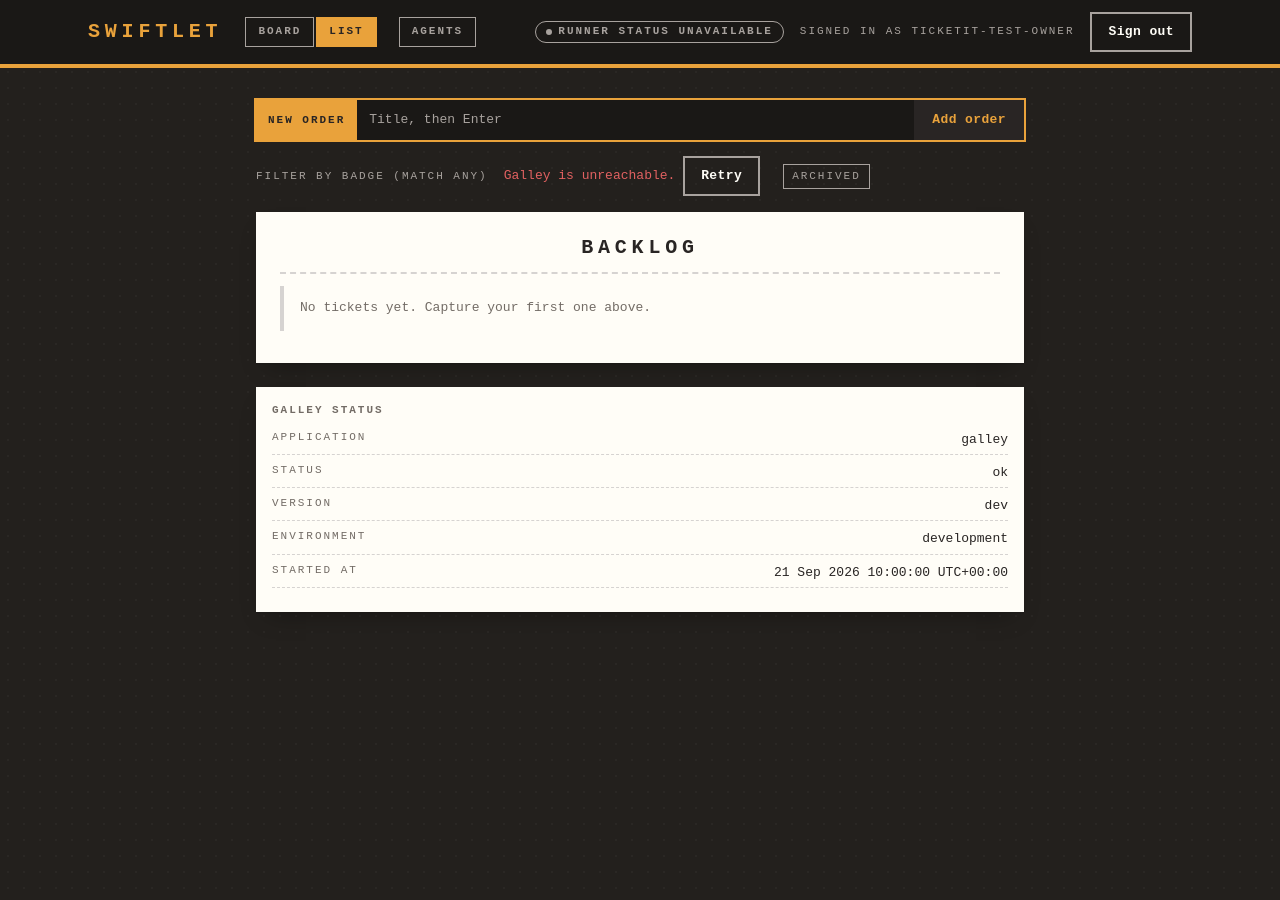
Test case: App › returns to sign-in when Ticket capture returns 401
Expected: the text "No tickets yet. Capture your first one above." is shown, [280, 286, 1000, 330]
Click the button with test id "new-order-button": coordinates (969, 120) [914, 100, 1024, 140]
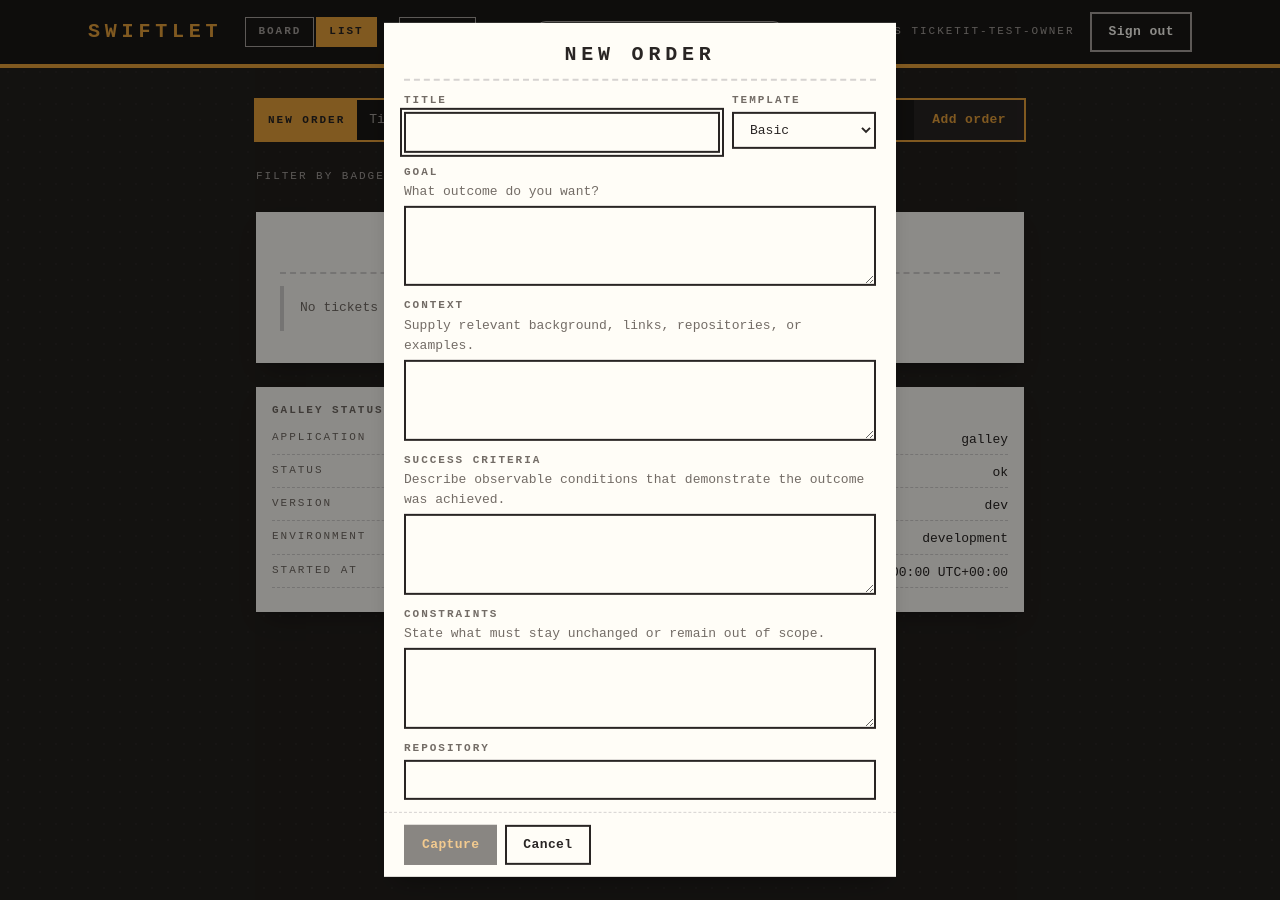
In the field with test id "ticket-title-input": coordinates (562, 132) [404, 112, 720, 152], type "New ticket"
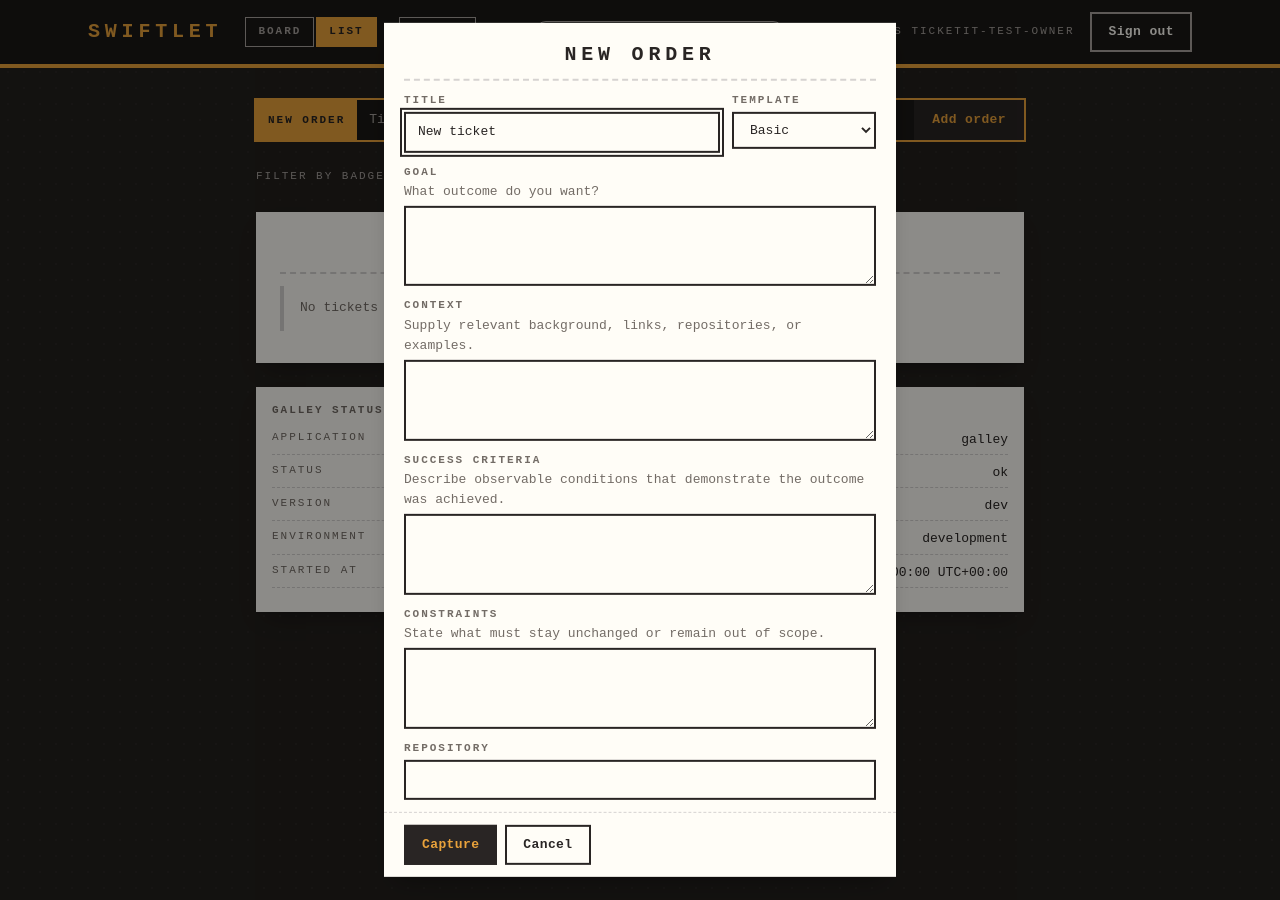
Click the button with test id "ticket-capture-submit": coordinates (451, 845) [404, 825, 497, 865]
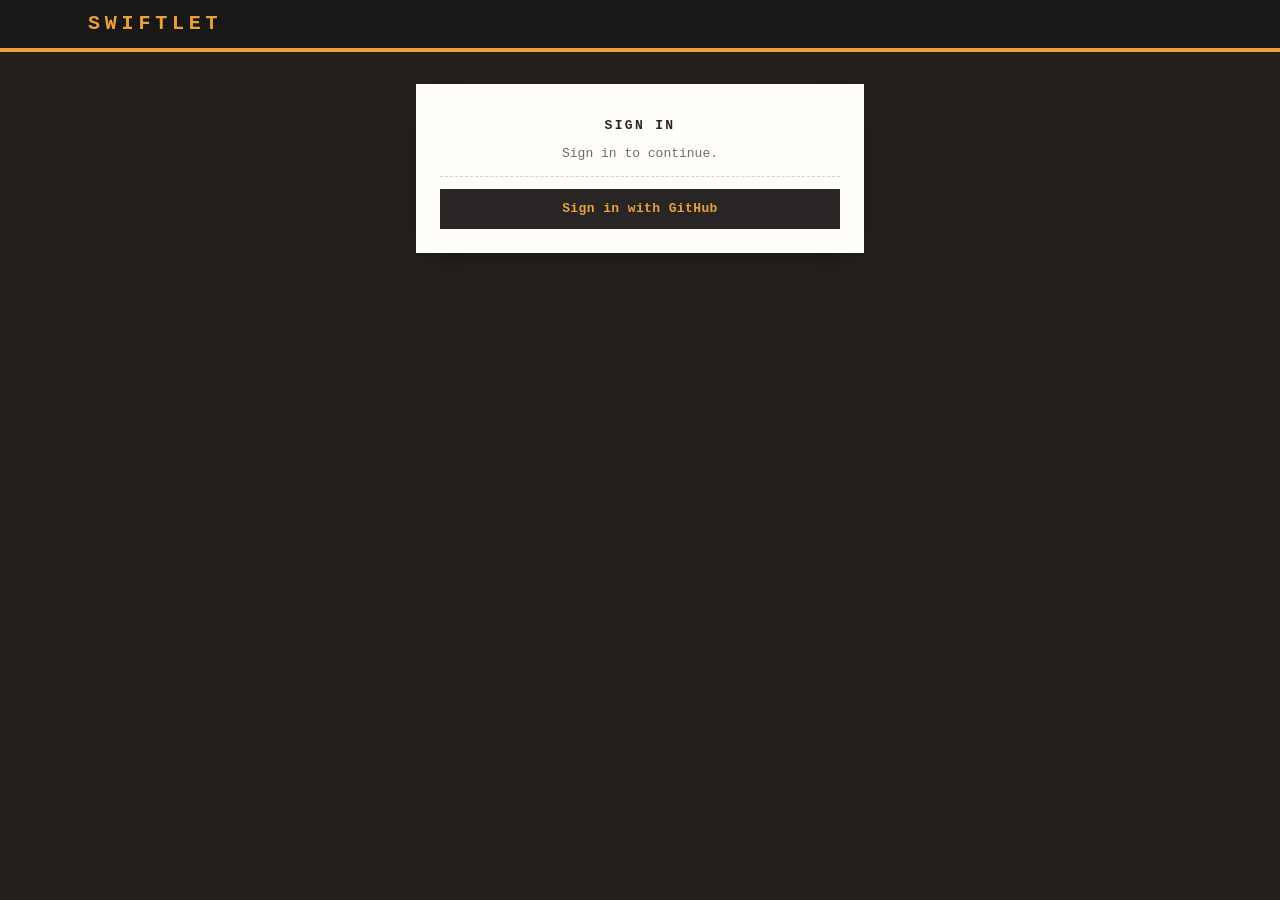
Expected: the element with test id "sign-in-page" is shown, [416, 84, 864, 253]
Expected: the element with test id "app-shell" is gone
